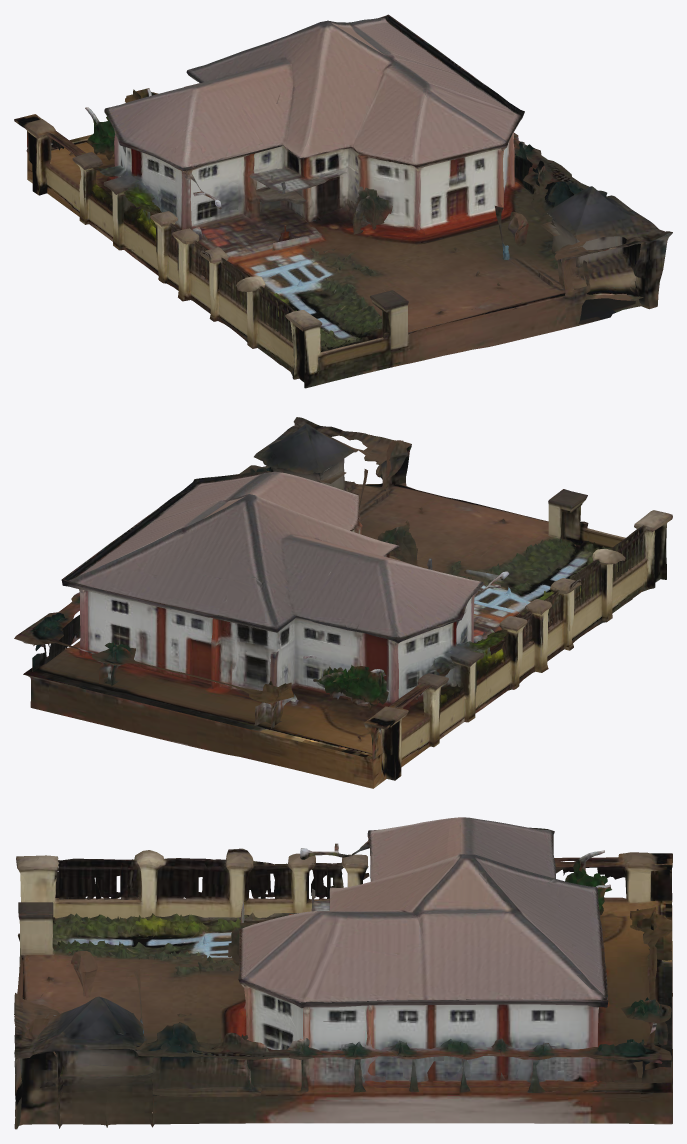
The picture shows the model from 3 angles, top to bottom: view 1: azimuth 30°, elevation 25°; view 2: azimuth 150°, elevation 25°; view 3: azimuth 270°, elevation 25°; orthographic projection. The views are drawn at different scales.
Bounding box in the file's own units: 0.7646 × 0.3375 × 1.
1 material, 1 textured.
